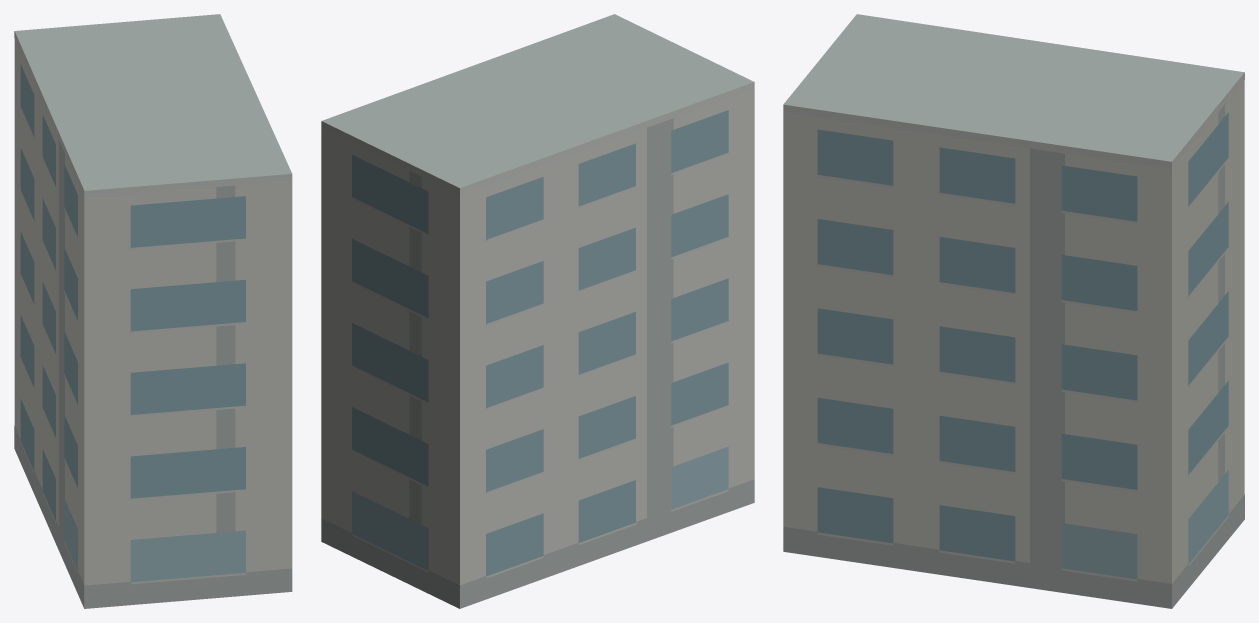
File: survey-upis-32893537.glb
3 views of the same model, side by side, from view 1: azimuth 30°, elevation 25°; view 2: azimuth 150°, elevation 25°; view 3: azimuth 270°, elevation 25° (orthographic). The views are drawn at different scales.
Visible parts, largest first — view 1: survey-upis-32893537.tmp; view 2: survey-upis-32893537.tmp; view 3: survey-upis-32893537.tmp.
Part boxes in pixels (box(x1,y1,x2,y2)): survey-upis-32893537.tmp: box(14, 14, 292, 608); survey-upis-32893537.tmp: box(321, 14, 754, 608); survey-upis-32893537.tmp: box(783, 14, 1244, 608).
Bounding box in the file's own units: 10.24 × 14.43 × 13.51.
